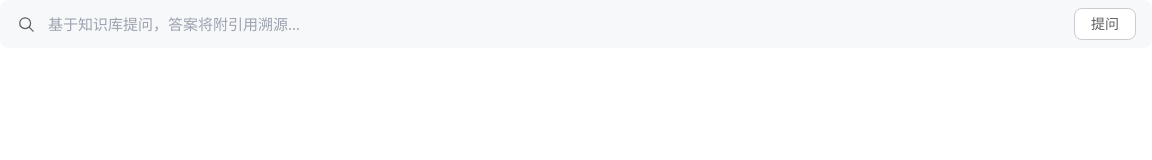
QuestionBox 提问入口 › 输入后点击「提问」提交并清空输入框
Type "研发投入是多少？" into the field labelled "提问" at [555, 24], box [48,12,1062,36]
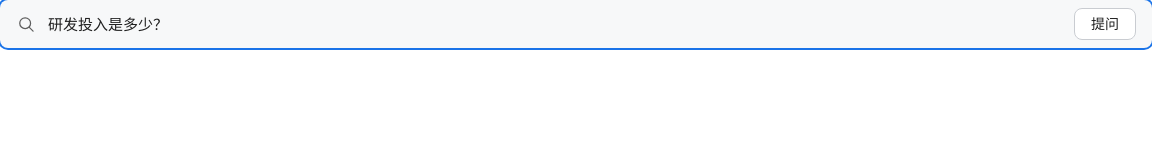
Click the button "提问" at [1105, 24], box [1074,8,1136,40]
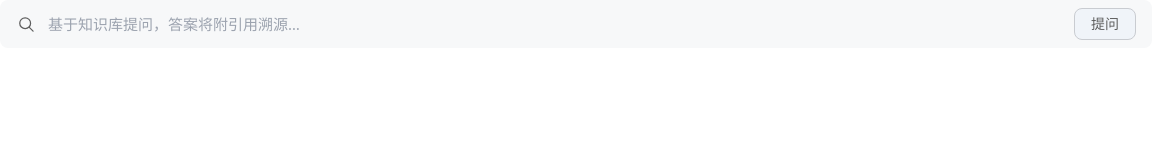
Check: the field labelled "提问" is empty, box [48,12,1062,36]
